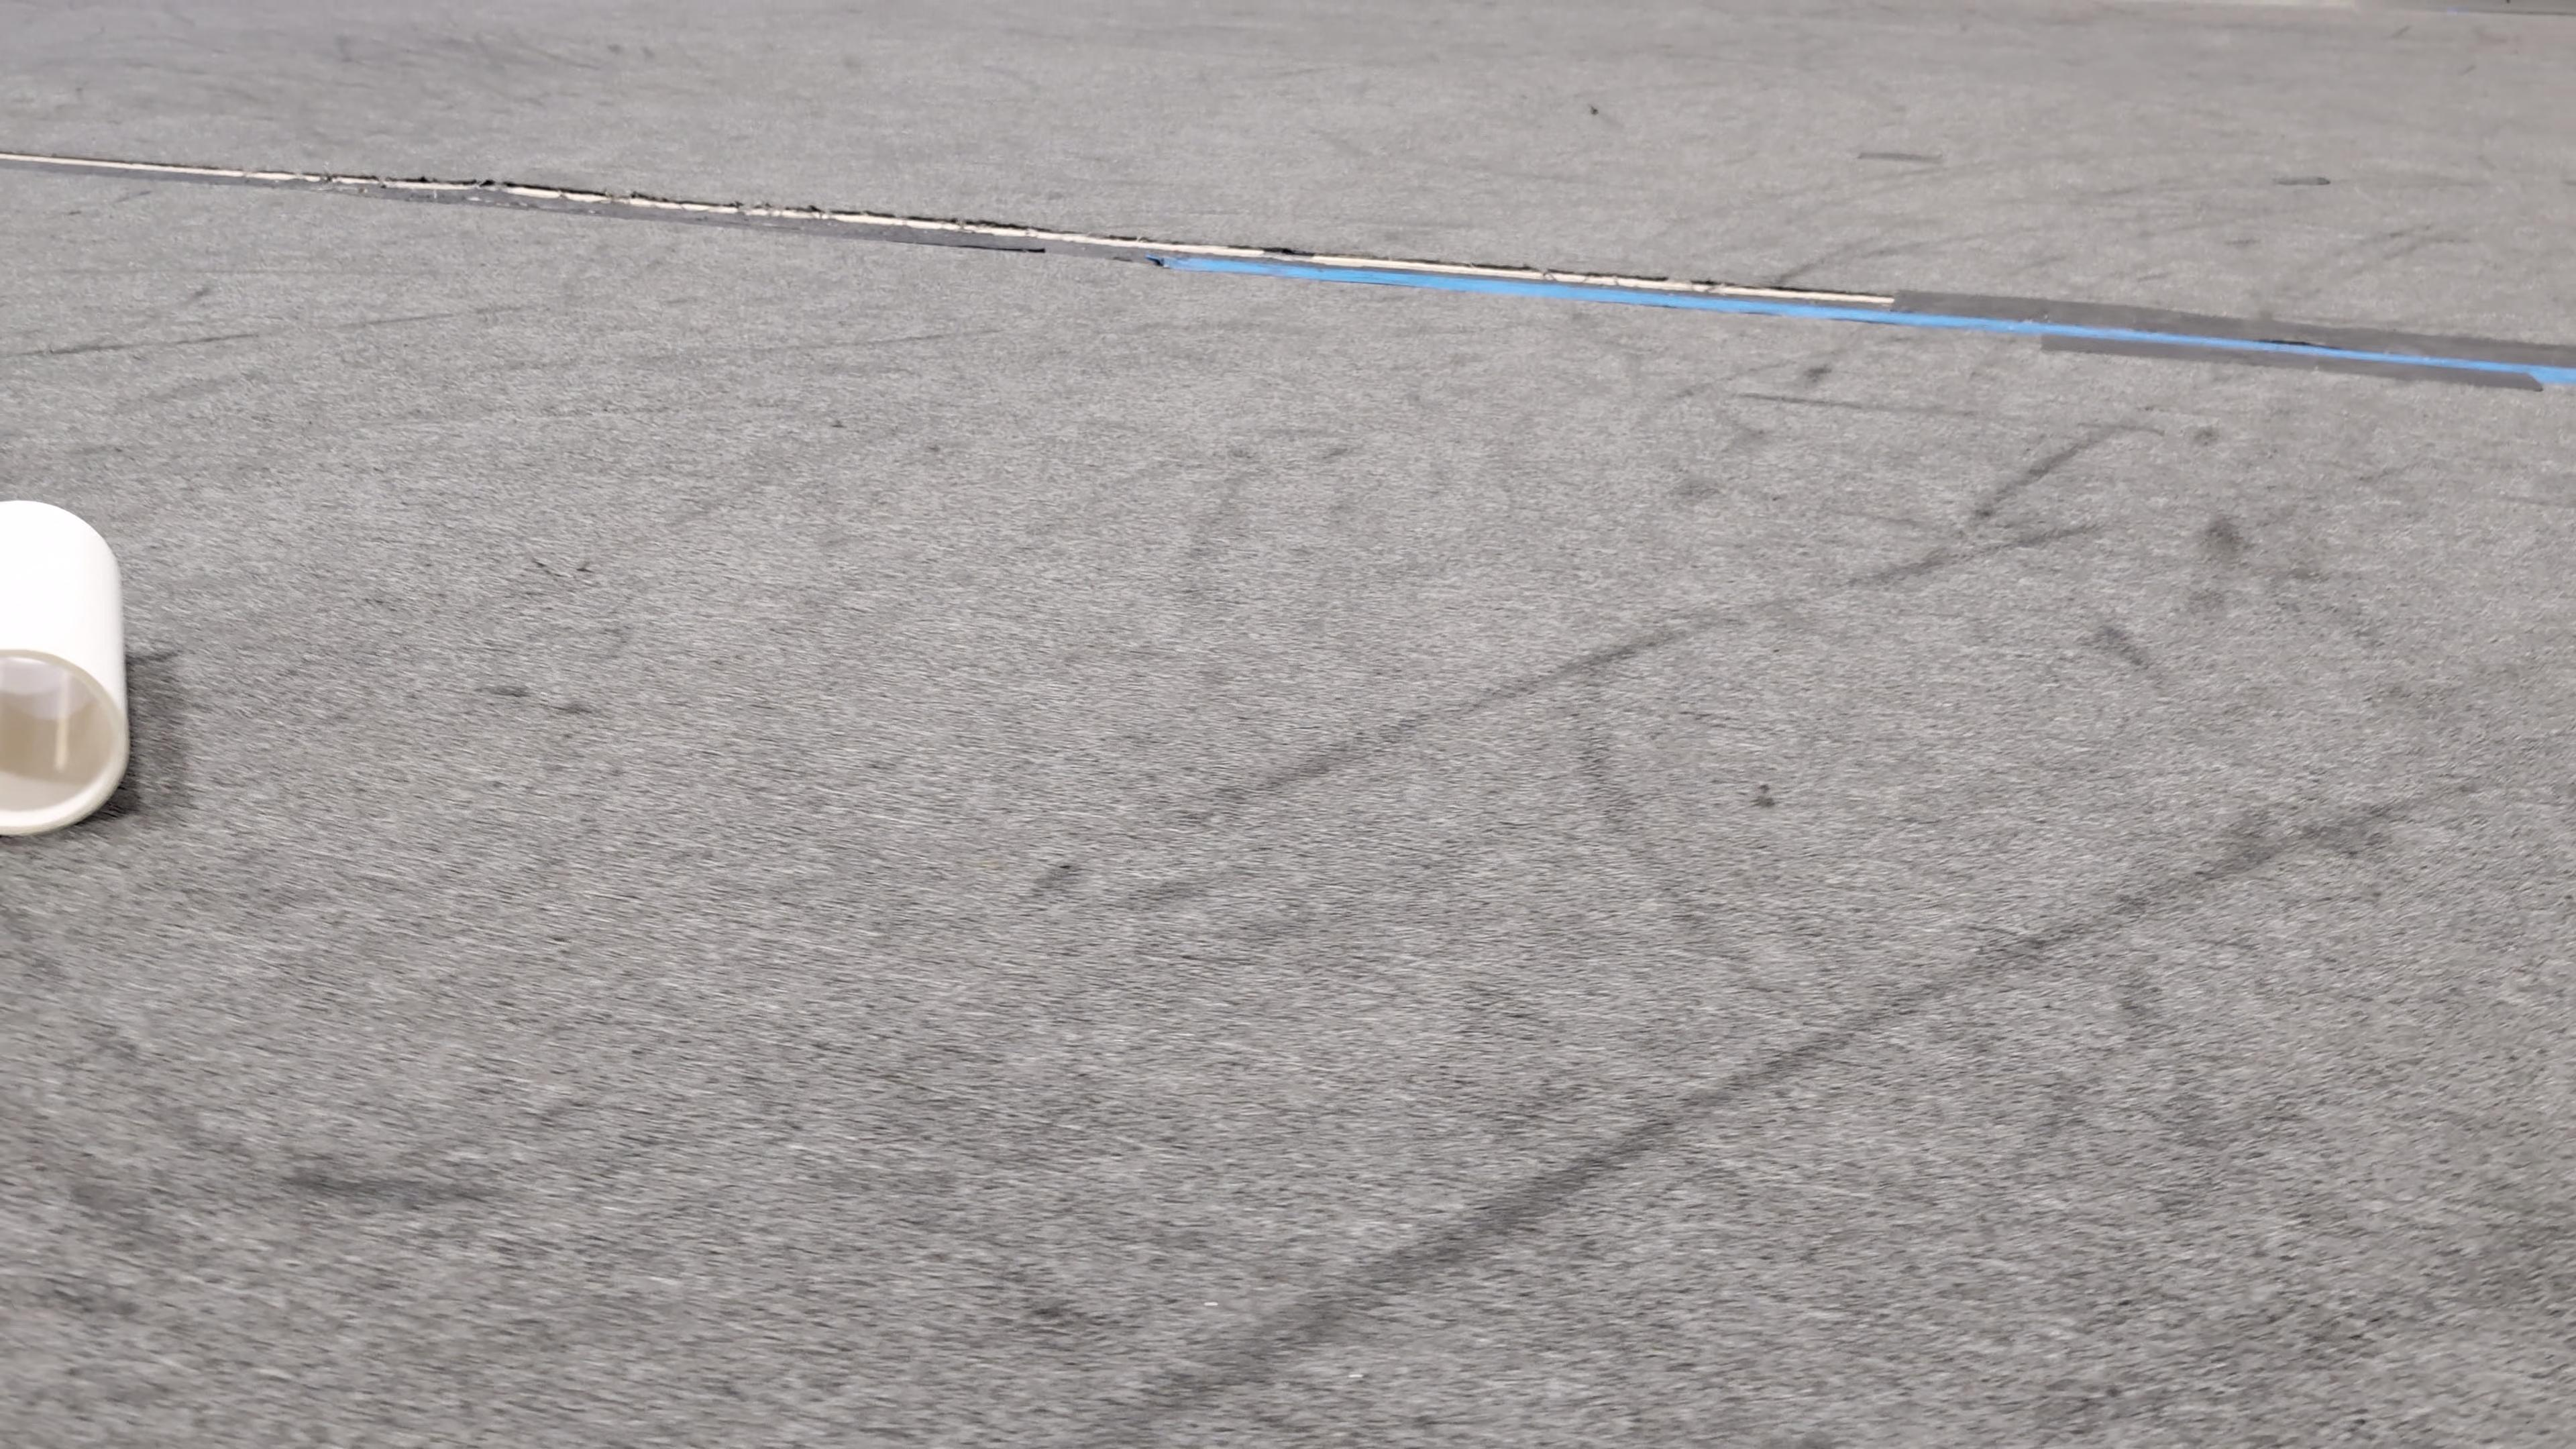coral: (0, 494, 133, 840)
